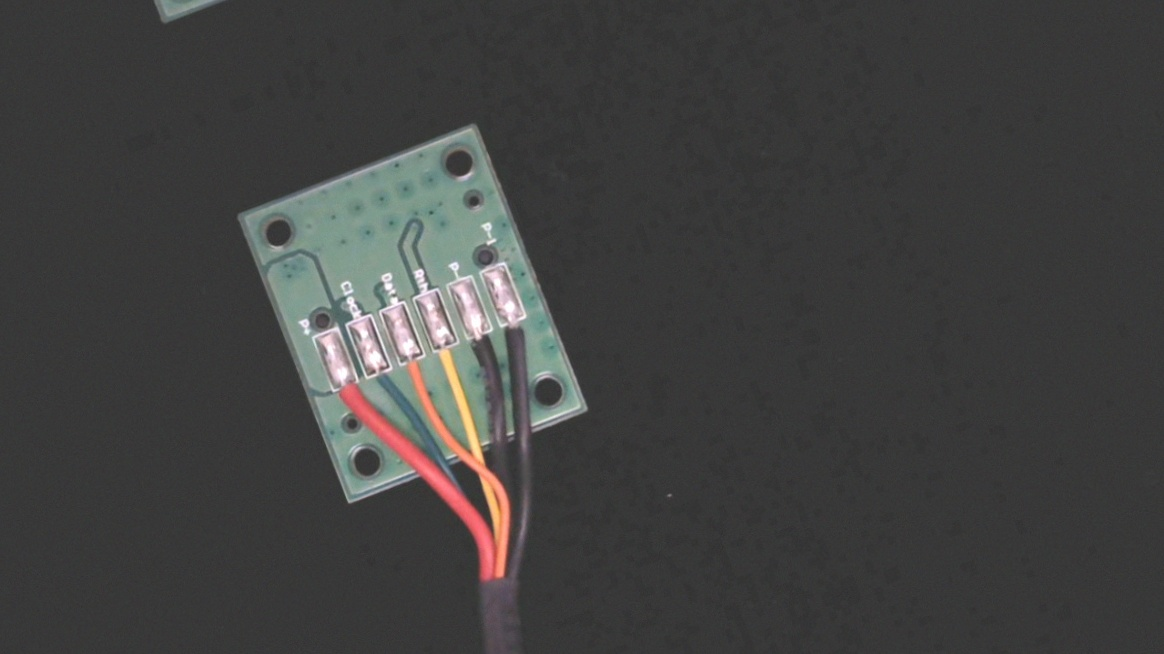Black: (461, 315, 509, 383)
Black1: (495, 302, 540, 364)
Green: (359, 354, 405, 417)
Orange: (394, 342, 439, 405)
Red: (328, 369, 378, 439)
Yellow: (427, 327, 475, 397)
